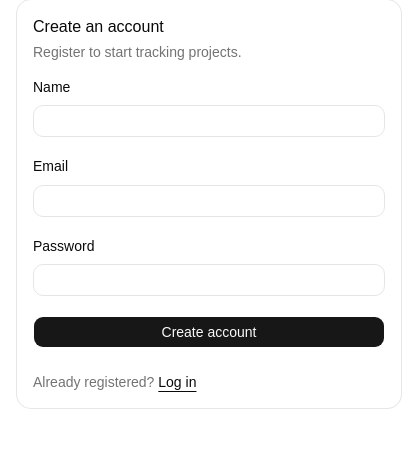
Test case: RegisterPage › shows an already-registered email on the email field and keeps the values
Type "Ada" into the field labelled "Name" at (209, 121), box [33,105,385,137]
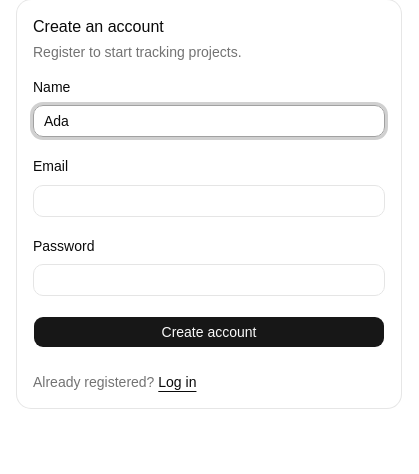
Type "ada@example.com" into the field labelled "Email" at (209, 200), box [33,184,385,216]
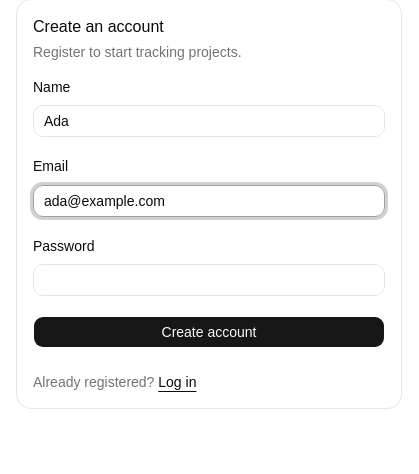
Type "correct horse" into the password field labelled "Password" at (209, 280), box [33,264,385,296]
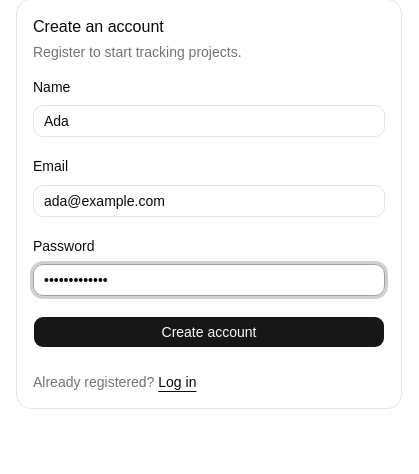
Click the button "Create account" at (209, 332), box [33,316,385,348]
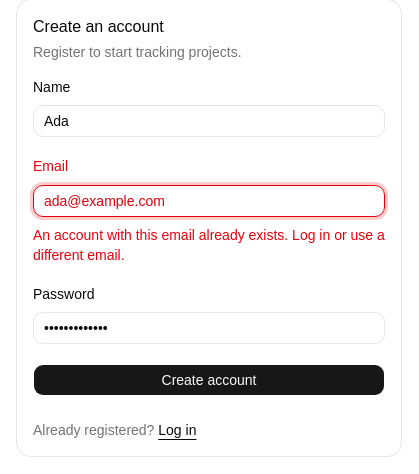
Result: the text "An account with this email already exists. Log in or use a different email." is shown at [33,224,385,264]
